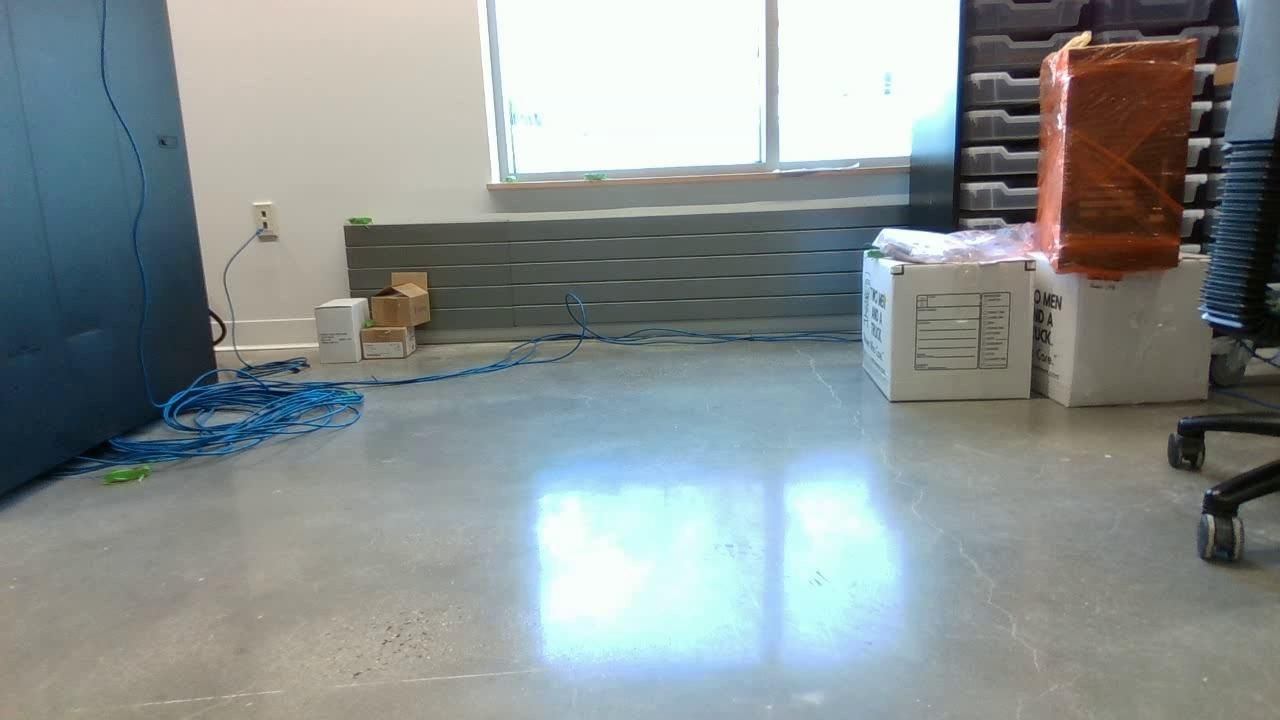grasshopper: (92, 463, 150, 490), (575, 166, 609, 190), (493, 168, 523, 188), (861, 241, 890, 261), (333, 217, 384, 228), (357, 310, 377, 327)
